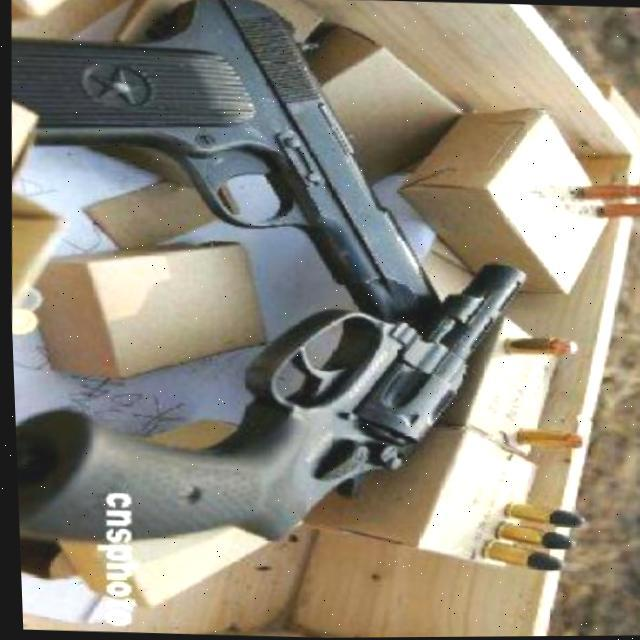gun: (7, 242, 538, 557), (0, 0, 468, 347)
